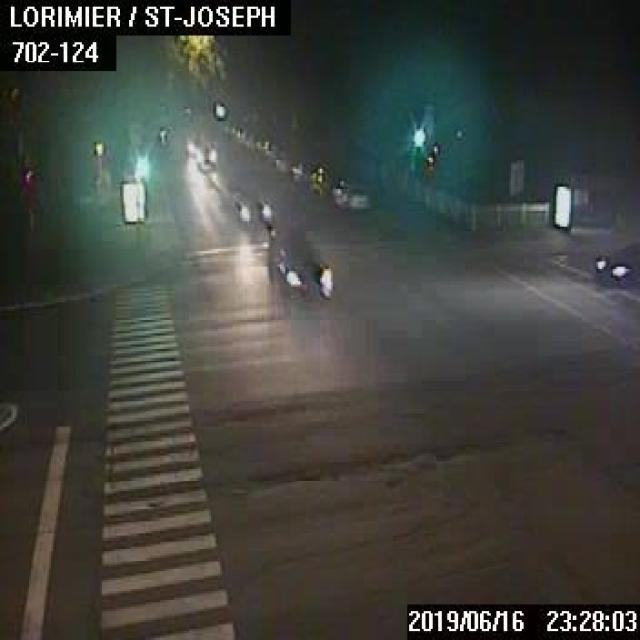vehicle: (265, 236, 331, 296), (594, 241, 638, 284), (231, 190, 271, 225), (331, 179, 369, 206), (308, 166, 337, 194), (194, 144, 216, 167), (182, 134, 205, 154), (292, 162, 310, 184)
